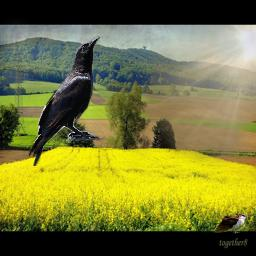Crow: (28, 36, 100, 166)
Cuckoo: (214, 200, 249, 234)
